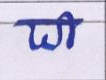i_matra: (62, 12, 75, 48)
